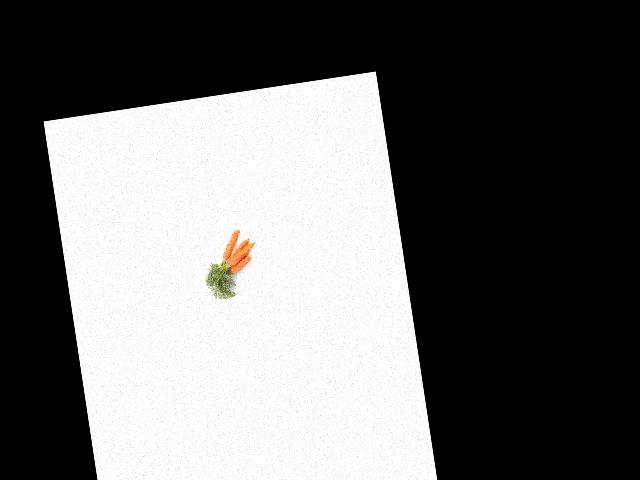carrot: (229, 258, 254, 274)
